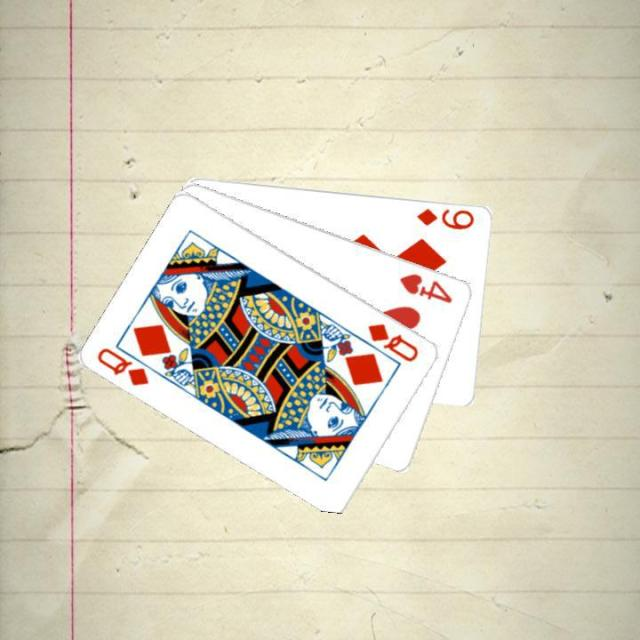4H: (396, 269, 455, 305)
9D: (414, 205, 476, 231)
QD: (93, 343, 151, 389), (364, 319, 422, 364)
